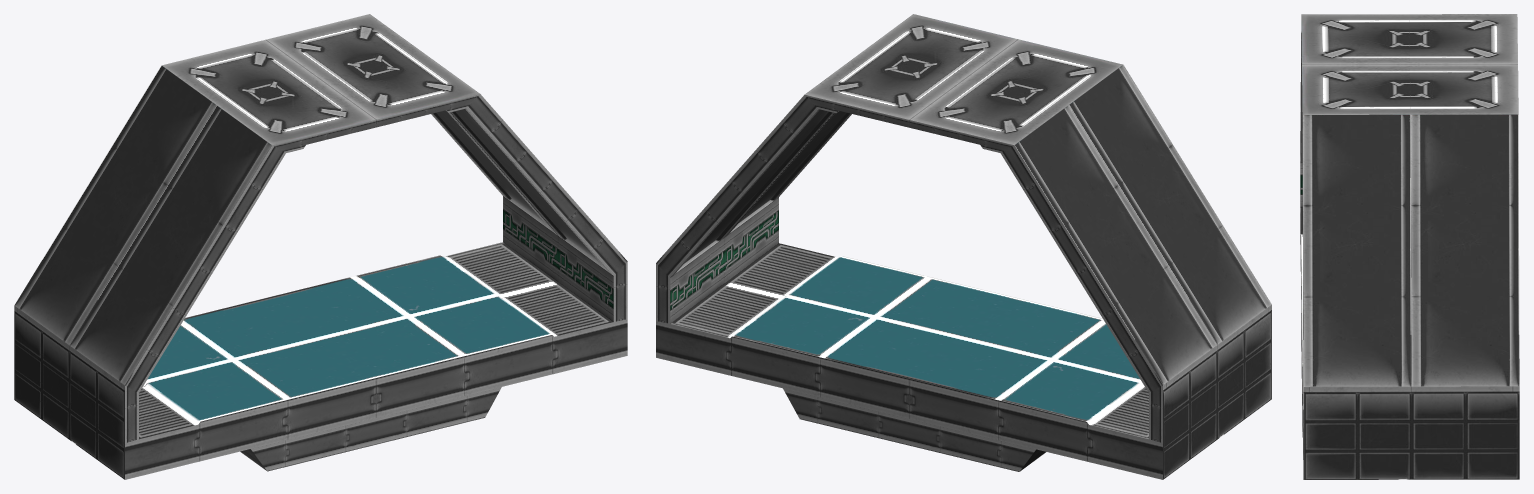
Rendered from ARC1110040.fbx.
3 views of the same model, side by side, from view 1: azimuth 30°, elevation 25°; view 2: azimuth 150°, elevation 25°; view 3: azimuth 270°, elevation 25° (orthographic).
Parts seen in each view (by area): view 1: smARC1110040; view 2: smARC1110040; view 3: smARC1110040.
Part boxes in pixels (x1,y1,x2,y2): smARC1110040: (14,14,627,479); smARC1110040: (656,14,1271,479); smARC1110040: (1300,14,1519,479).
Bounding box in the file's own units: 530 × 326 × 202.
1 material, 1 textured.
